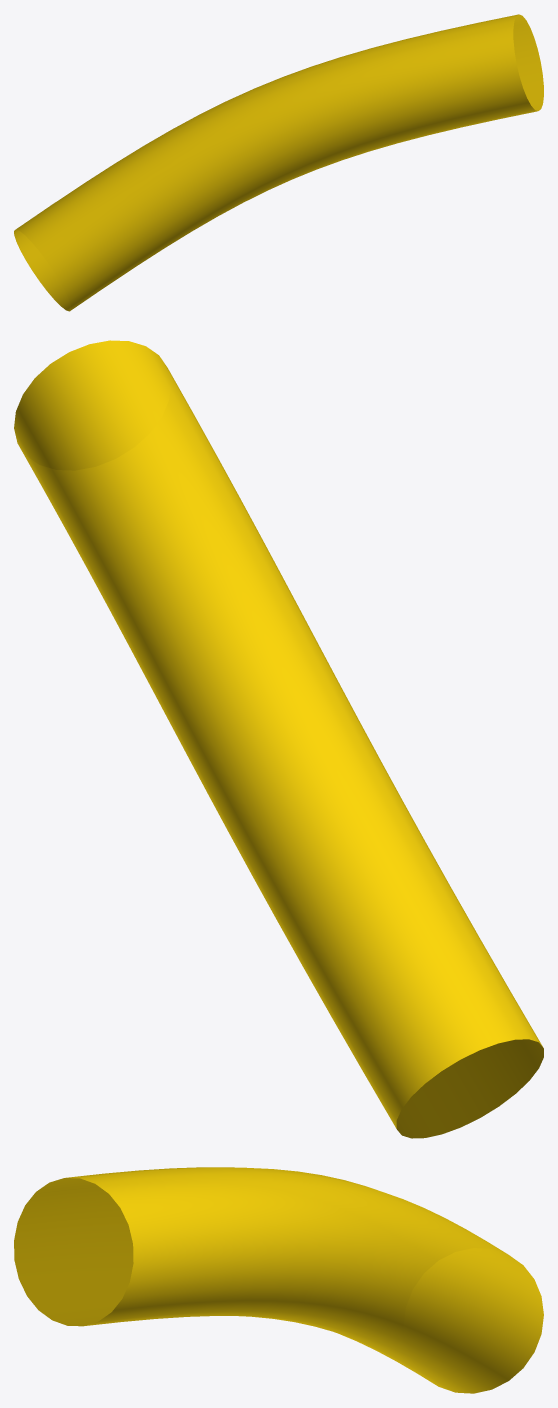
File: Event_421556567_track_28.fbx
3 views of the same model, one above another, from view 1: azimuth 30°, elevation 25°; view 2: azimuth 150°, elevation 25°; view 3: azimuth 270°, elevation 25° (orthographic). The views are drawn at different scales.
Parts seen in each view (by area): view 1: Model; view 2: Model; view 3: Model.
Boxes of the visible parts, x1,y1,x2,y2 form: Model: (14, 14, 543, 311); Model: (14, 340, 543, 1138); Model: (14, 1167, 543, 1393).
Bounding box in the file's own units: 0.1919 × 0.1328 × 0.1418.
